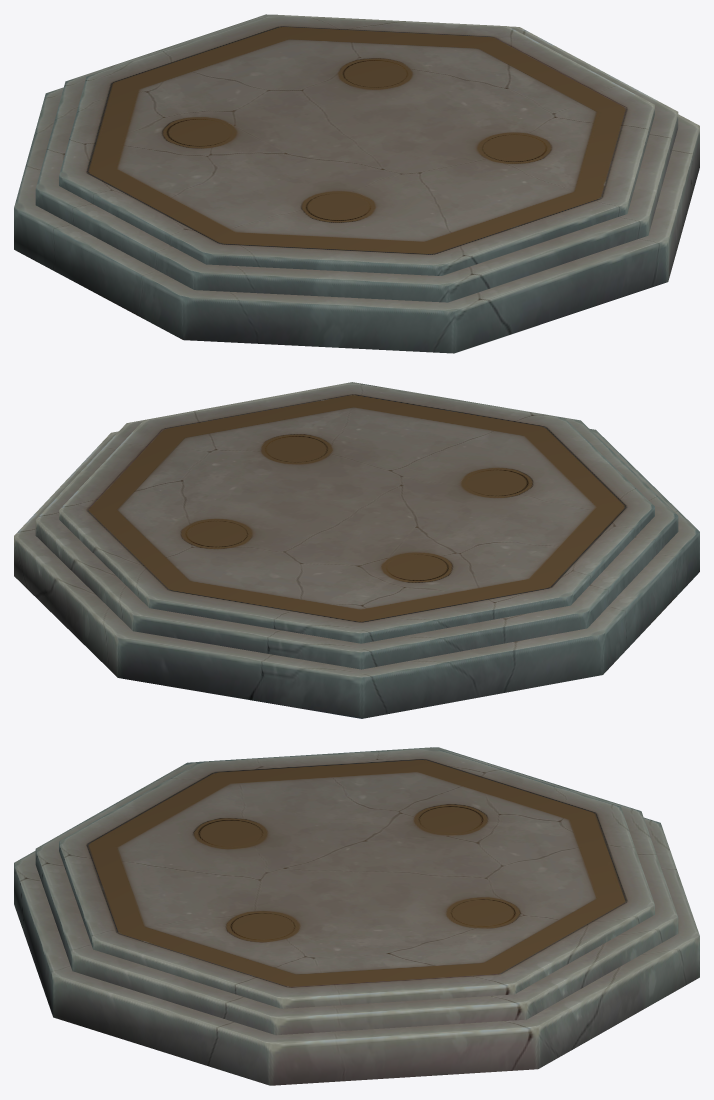
The model's file is SM_Temple_Base_01.glb.
The picture shows the model from 3 angles, top to bottom: view 1: azimuth 30°, elevation 25°; view 2: azimuth 150°, elevation 25°; view 3: azimuth 270°, elevation 25°; orthographic projection. The views are drawn at different scales.
Parts seen in each view (by area): view 1: SM_Temple_Base_01; view 2: SM_Temple_Base_01; view 3: SM_Temple_Base_01.
Boxes of the visible parts, x1,y1,x2,y2 form: SM_Temple_Base_01: (14, 14, 699, 353); SM_Temple_Base_01: (14, 382, 699, 718); SM_Temple_Base_01: (14, 747, 699, 1085).
Size of the model in its own units: 16.12 by 1.75 by 16.12.
1 material, 1 textured.
